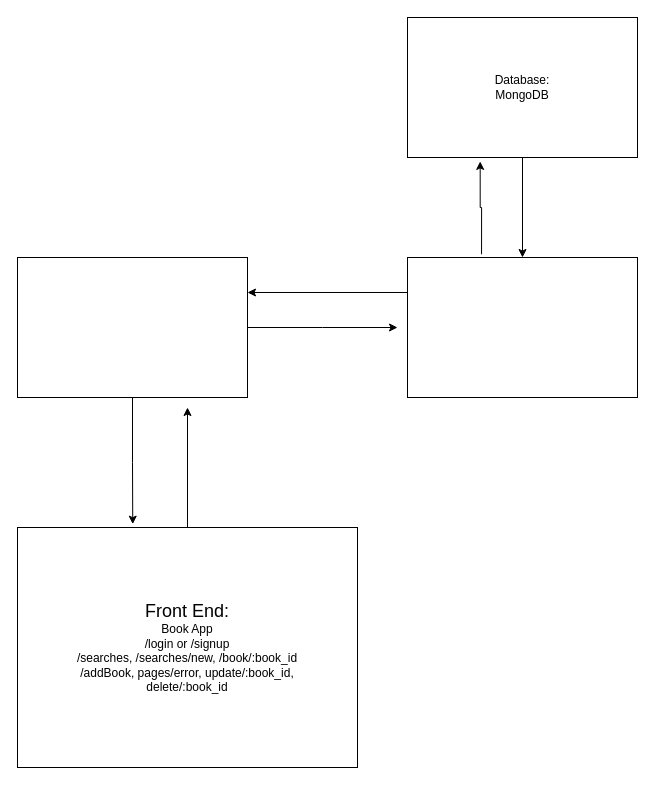
Some shapes in this 655 by 785 pixel diagram are drawn without their labels. The centre of each missing label's shape, as x and y in pixels:
"Middleware: /logger, /basicAuth, /bearerAuth,/acl" belongs at [522,327].
"Server: server.js, index.js" belongs at [132,327].
